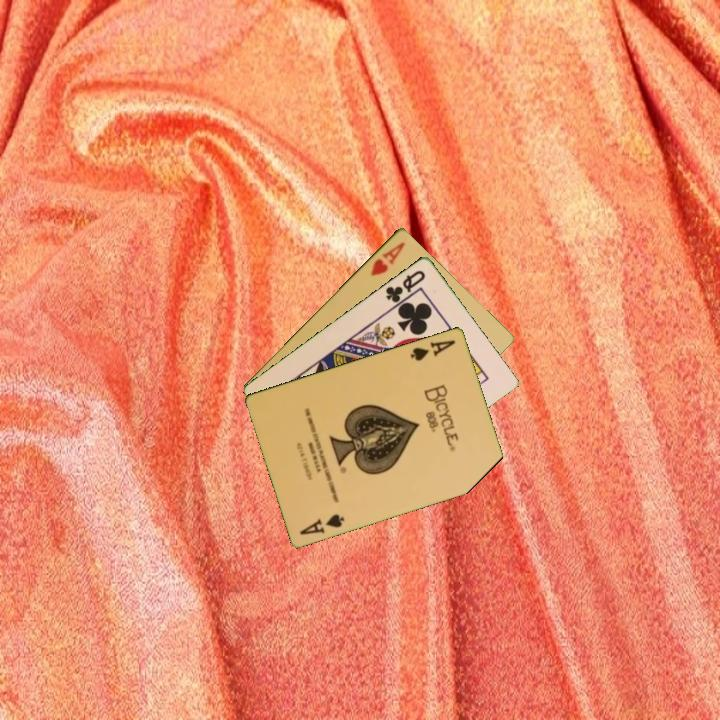Ah: (367, 238, 408, 279)
As: (296, 510, 348, 537), (407, 336, 458, 363)
Qc: (382, 266, 428, 305)
